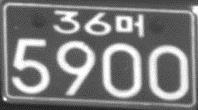0: (147, 44, 190, 101), (101, 41, 143, 98)
3: (52, 9, 80, 34)
5: (11, 38, 50, 95)
6: (83, 12, 112, 36)
9: (55, 40, 96, 96)
머: (114, 13, 145, 38)
